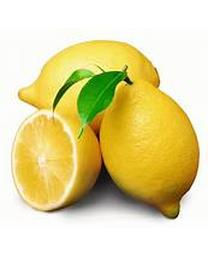lemon: (100, 83, 199, 220), (20, 38, 161, 129), (10, 110, 100, 210)
